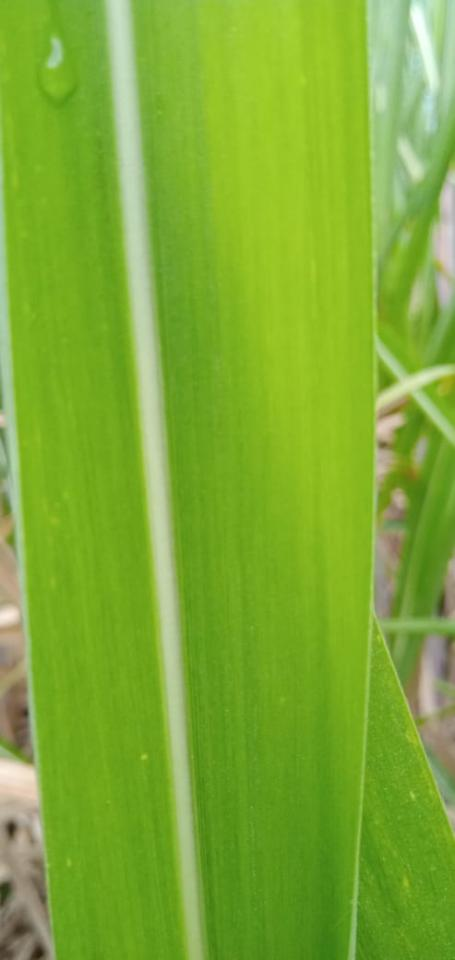Healthy: (0, 0, 373, 959), (355, 613, 454, 959)
